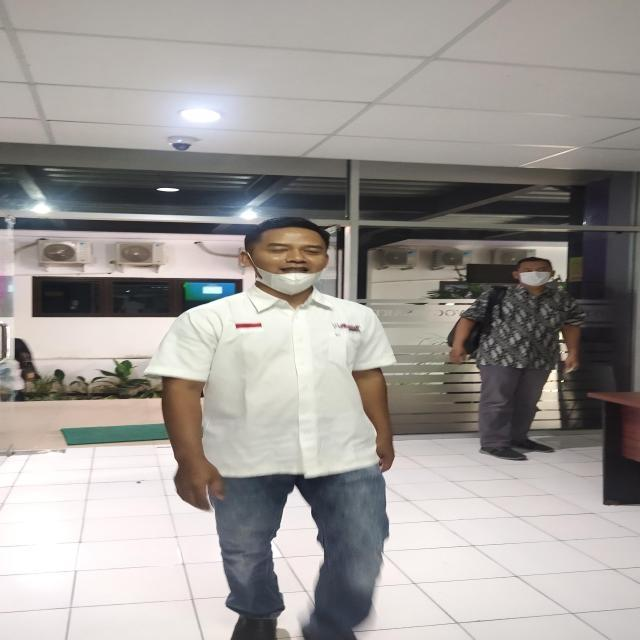hairnet: (238, 215, 332, 298)
